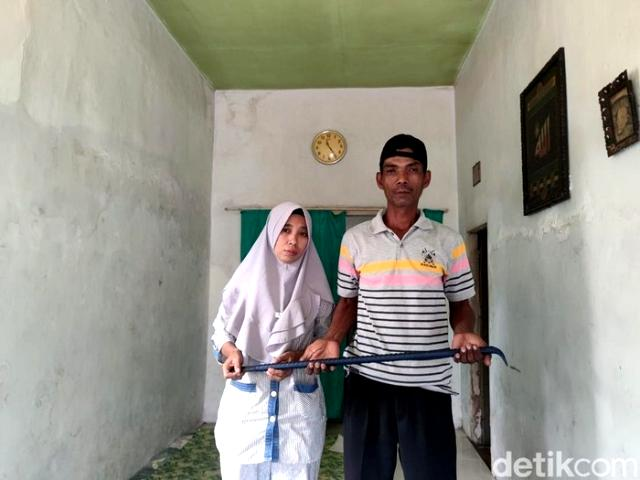crow bar: (226, 343, 510, 376)
